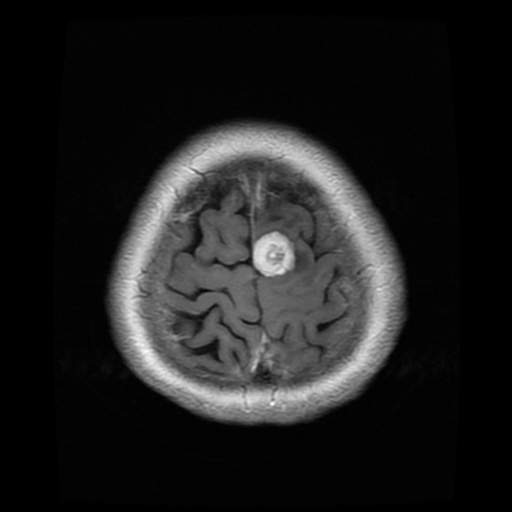meningioma: (252, 230, 296, 276)
